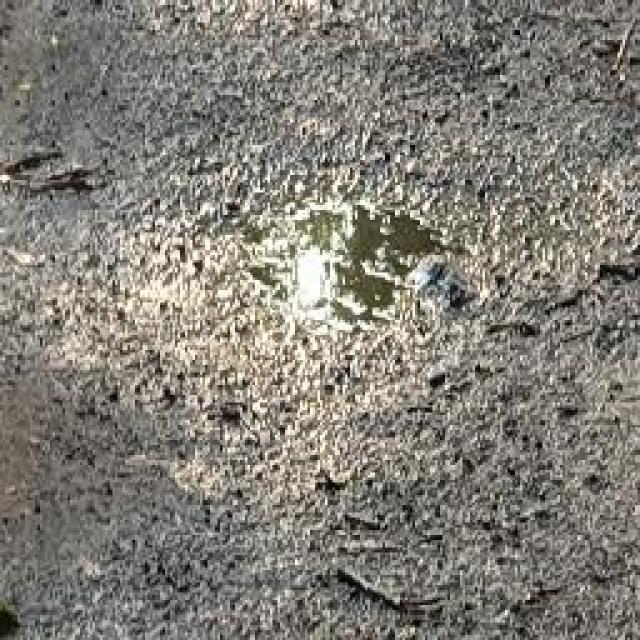puddle: (253, 205, 447, 339)
